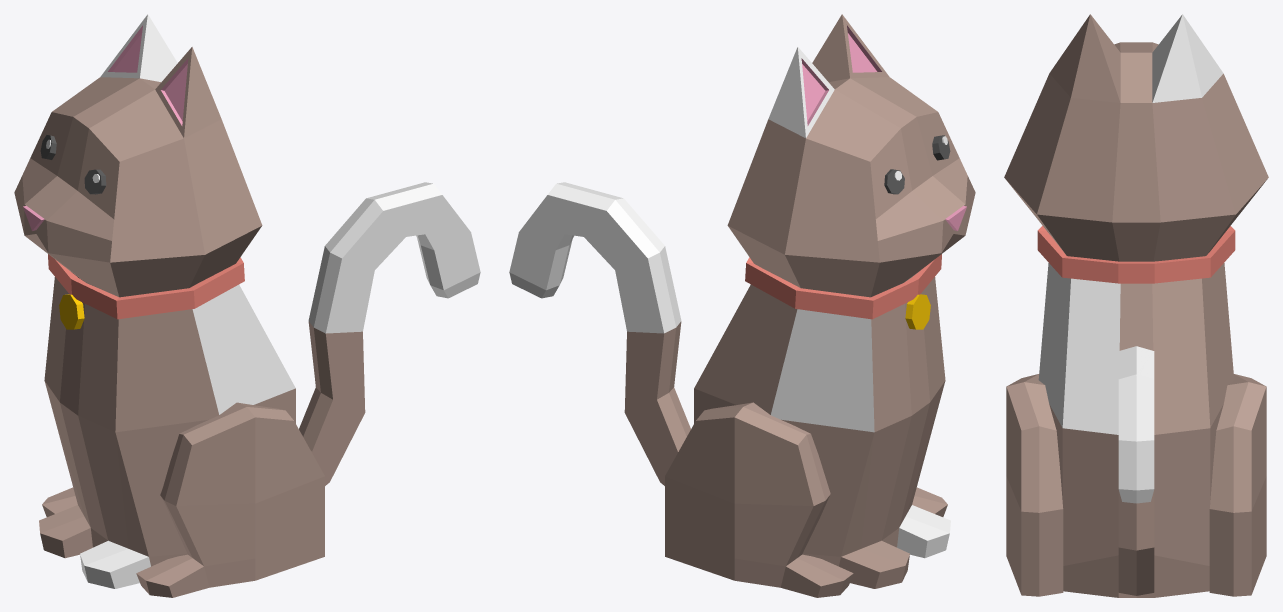
Rendered from Cat.fbx.
The picture shows the model from 3 angles, left to right: view 1: azimuth 30°, elevation 25°; view 2: azimuth 150°, elevation 25°; view 3: azimuth 270°, elevation 25°; orthographic projection. The views are drawn at different scales.
Parts seen in each view (by area): view 1: Cube.004; view 2: Cube.004; view 3: Cube.004.
Boxes of the visible parts, left/top/right/bottom form: Cube.004: left=14, top=14, right=480, bottom=597; Cube.004: left=509, top=14, right=975, bottom=597; Cube.004: left=1004, top=14, right=1268, bottom=597.
Bounding box in the file's own units: 17473 × 19275 × 8704.
